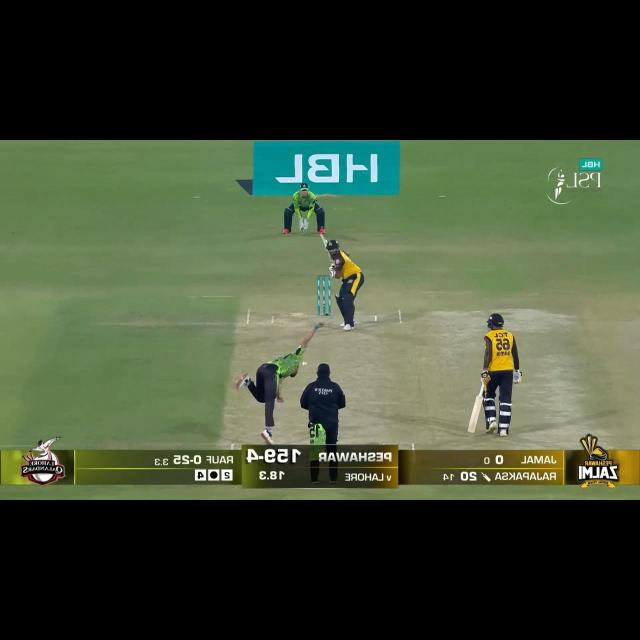bat: (467, 394, 485, 436), (320, 233, 335, 266)
toe: (467, 426, 479, 435), (319, 232, 325, 242)
